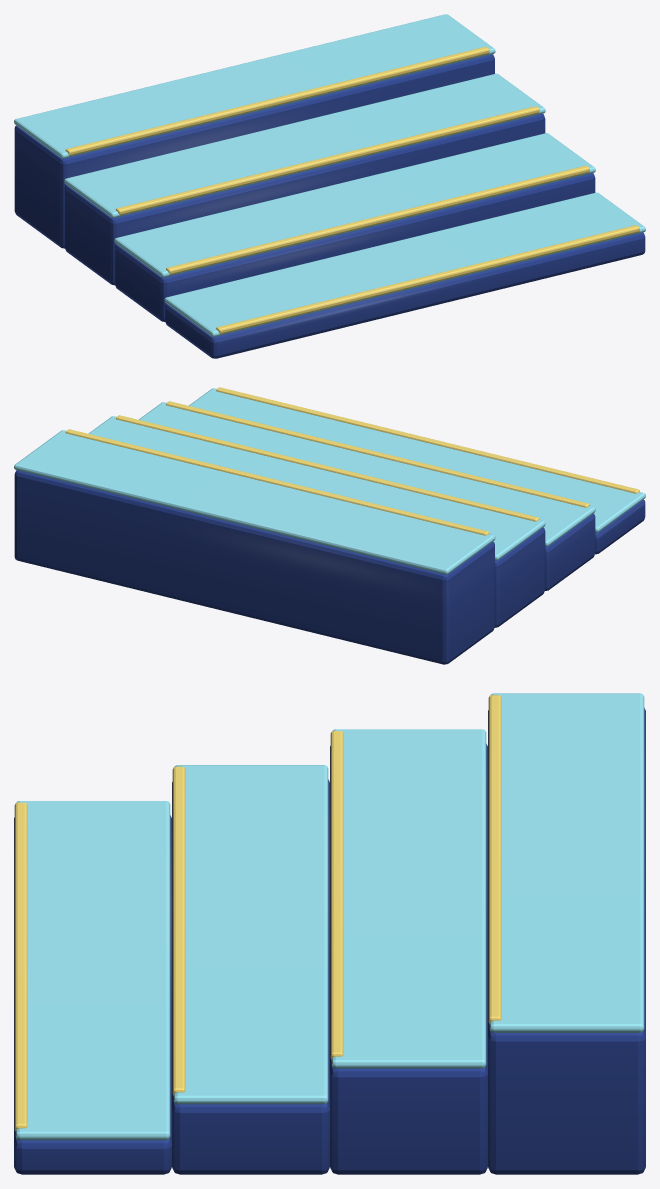
File: PlazaSteps.fbx
3 renders of one model, top to bottom at view 1: azimuth 30°, elevation 25°; view 2: azimuth 150°, elevation 25°; view 3: azimuth 270°, elevation 25°, orthographic. The views are drawn at different scales.
Parts seen in each view (by area): view 1: PlazaSteps; view 2: PlazaSteps; view 3: PlazaSteps.
Part boxes in pixels (bbox=[...]): PlazaSteps: bbox=[14, 14, 645, 358]; PlazaSteps: bbox=[14, 387, 645, 664]; PlazaSteps: bbox=[14, 693, 645, 1174].
Bounding box in the file's own units: 10 × 2.16 × 8.
Materials: 1 (1 with a texture image).
